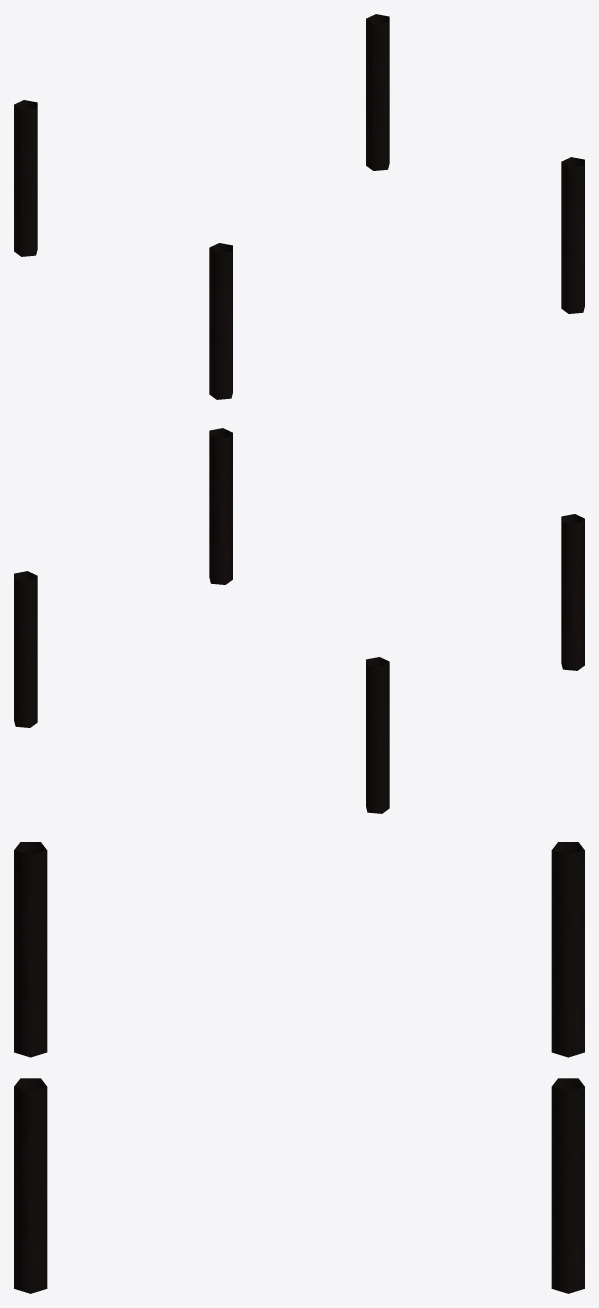
Rendered from pm-platform-beams.glb.
3 renders of one model, top to bottom at view 1: azimuth 30°, elevation 25°; view 2: azimuth 150°, elevation 25°; view 3: azimuth 270°, elevation 25°, orthographic. The views are drawn at different scales.
Visible parts, largest first — view 1: PlatformBeams_Art; view 2: PlatformBeams_Art; view 3: PlatformBeams_Art.
Boxes of the visible parts, x1,y1,x2,y2 form: PlatformBeams_Art: (14,14,584,399); PlatformBeams_Art: (14,428,584,813); PlatformBeams_Art: (14,842,584,1293).
Bounding box in the file's own units: 1.48 × 0.5587 × 1.43.
1 material, 1 textured.
